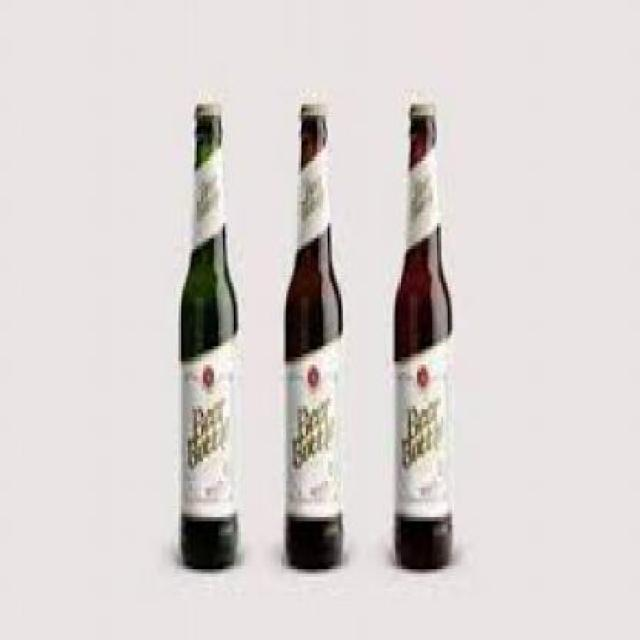GLASS: (391, 116, 452, 570), (282, 116, 343, 570), (176, 116, 236, 566)
METAL: (192, 97, 217, 111), (297, 97, 321, 111), (408, 97, 430, 111)
